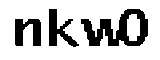0: (120, 4, 151, 51)
k: (43, 2, 78, 49)
n: (7, 15, 43, 48)
w: (79, 17, 122, 49)
